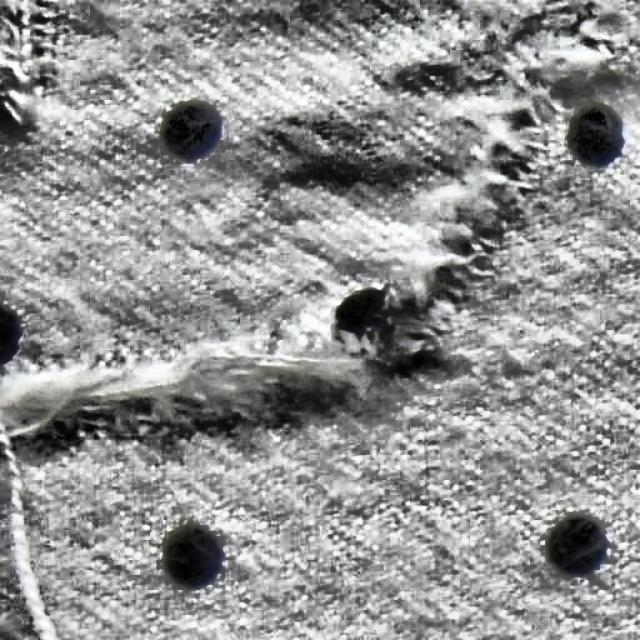gray stitch: (383, 3, 639, 329), (0, 335, 425, 454), (0, 434, 65, 639), (0, 0, 71, 144)
